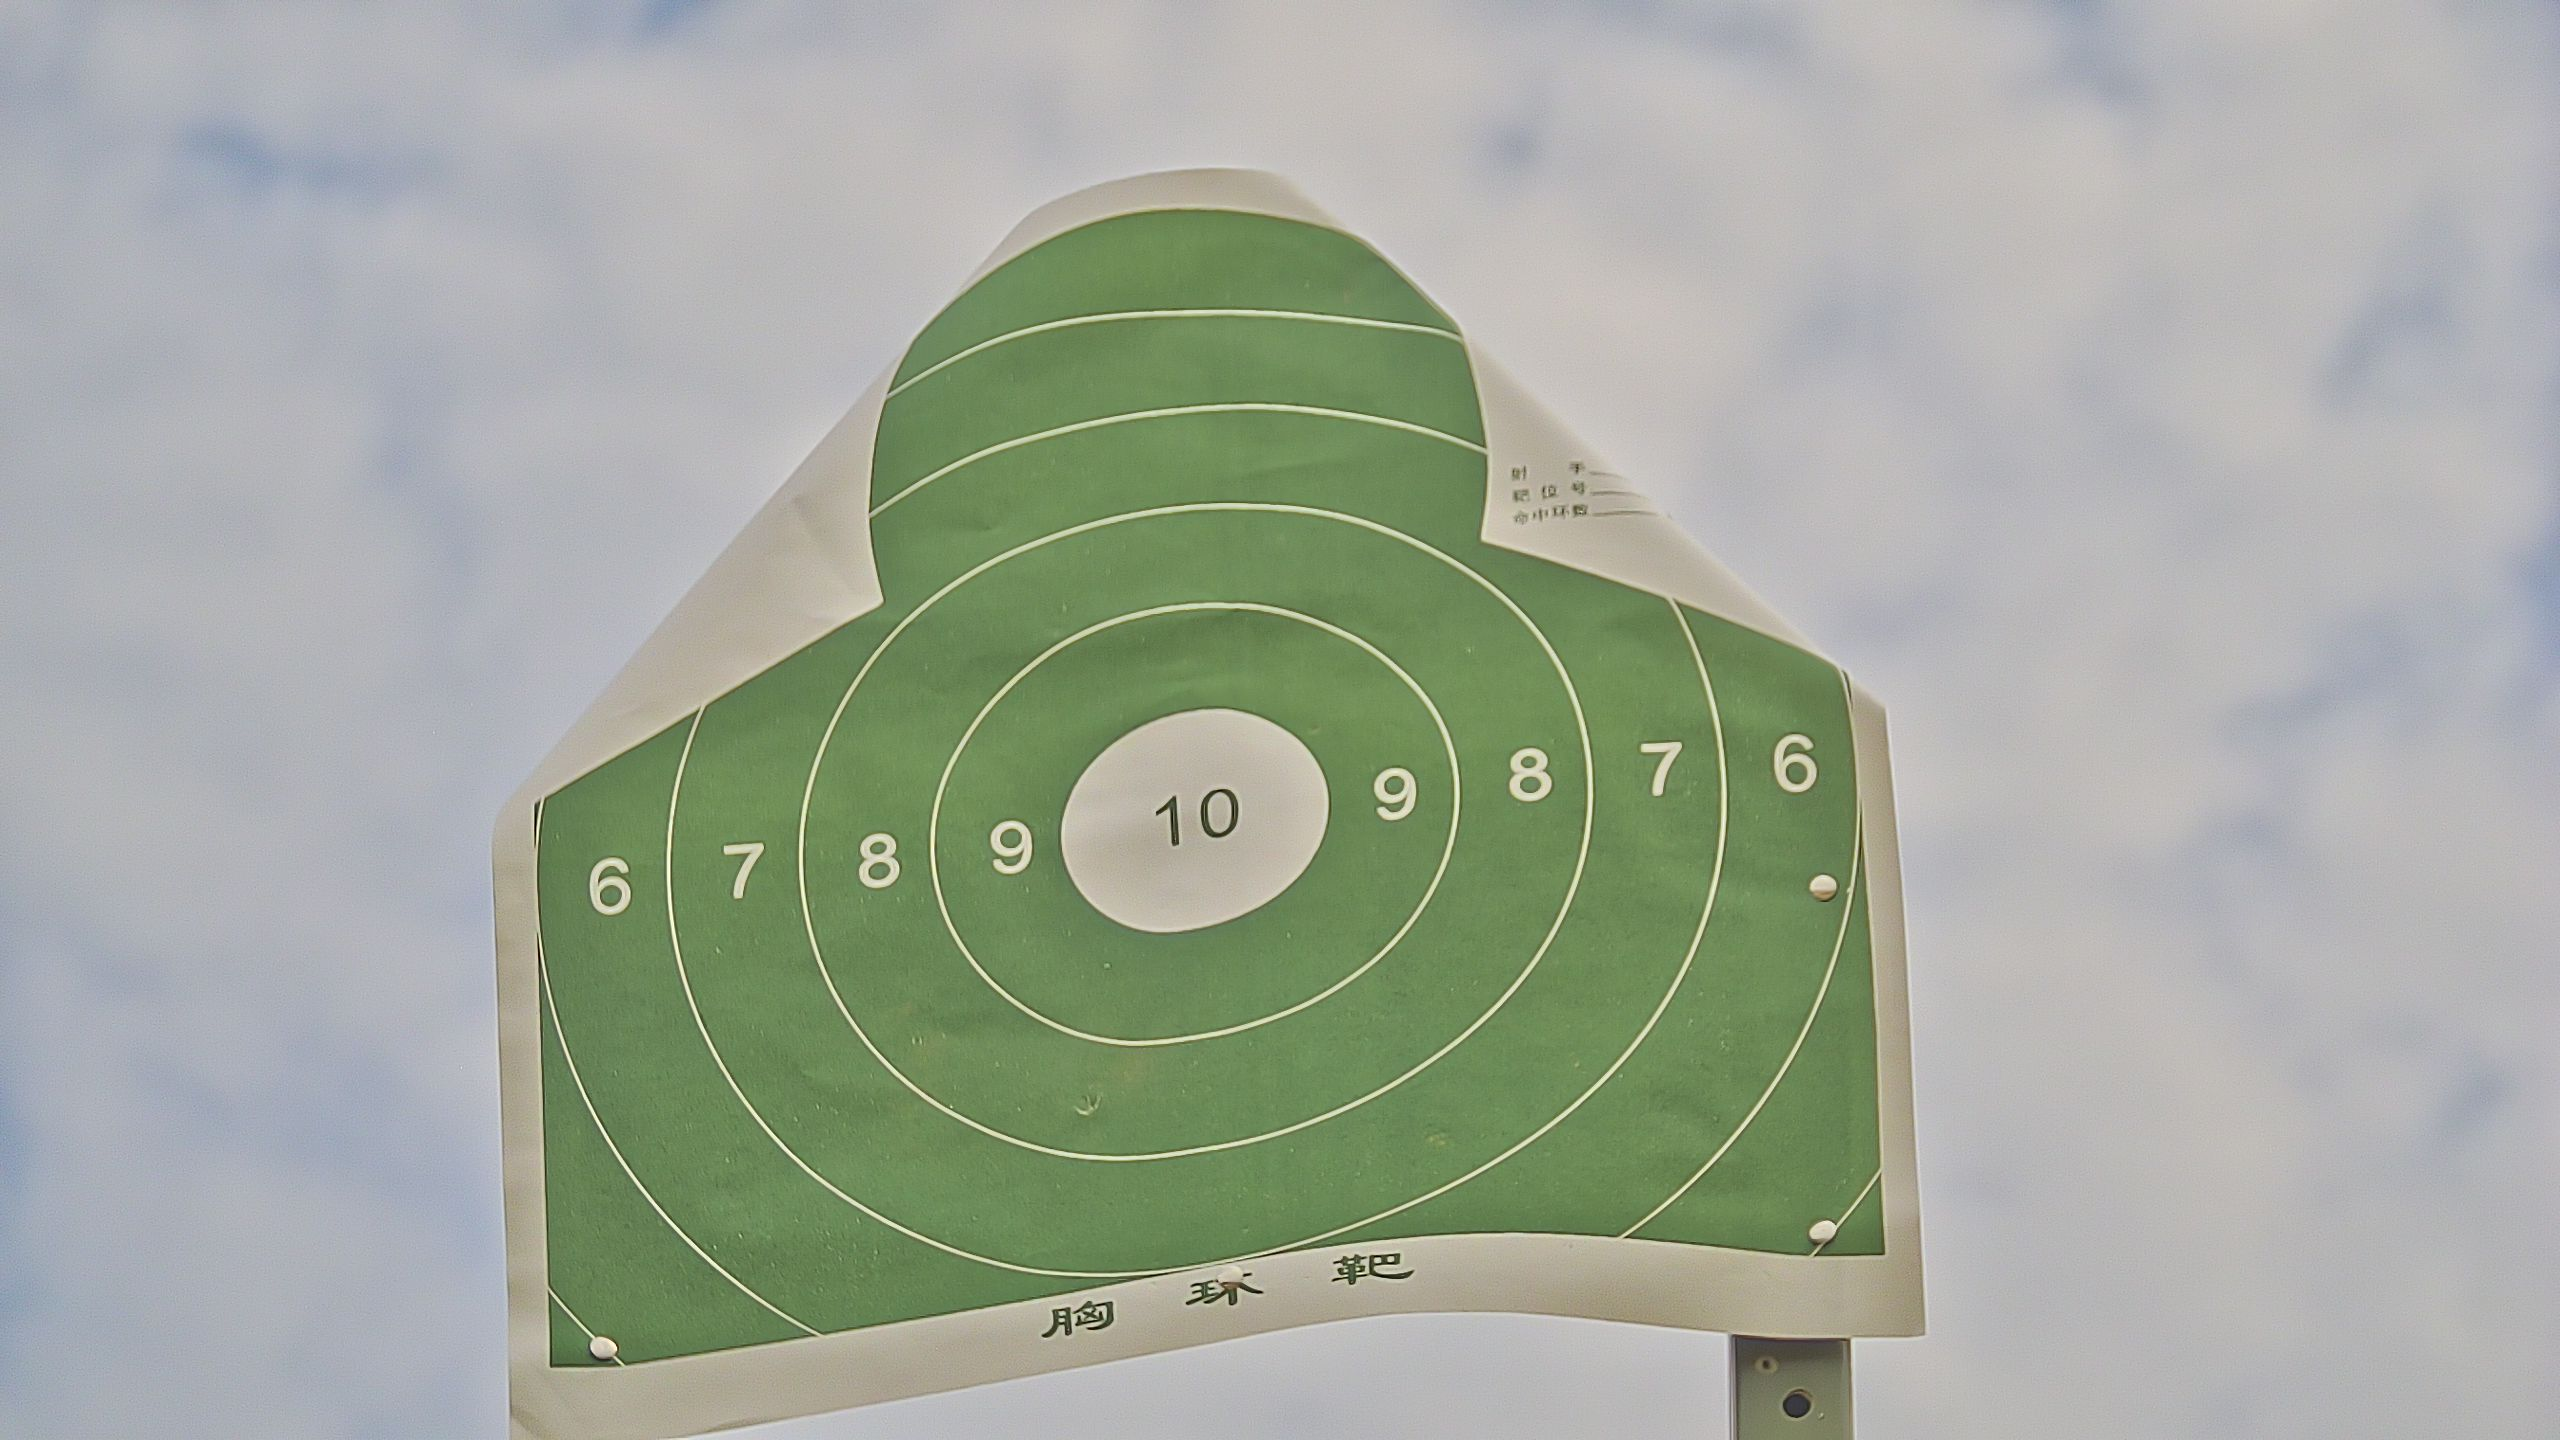target: (536, 215, 1895, 1378)
ten: (1060, 703, 1329, 937)
